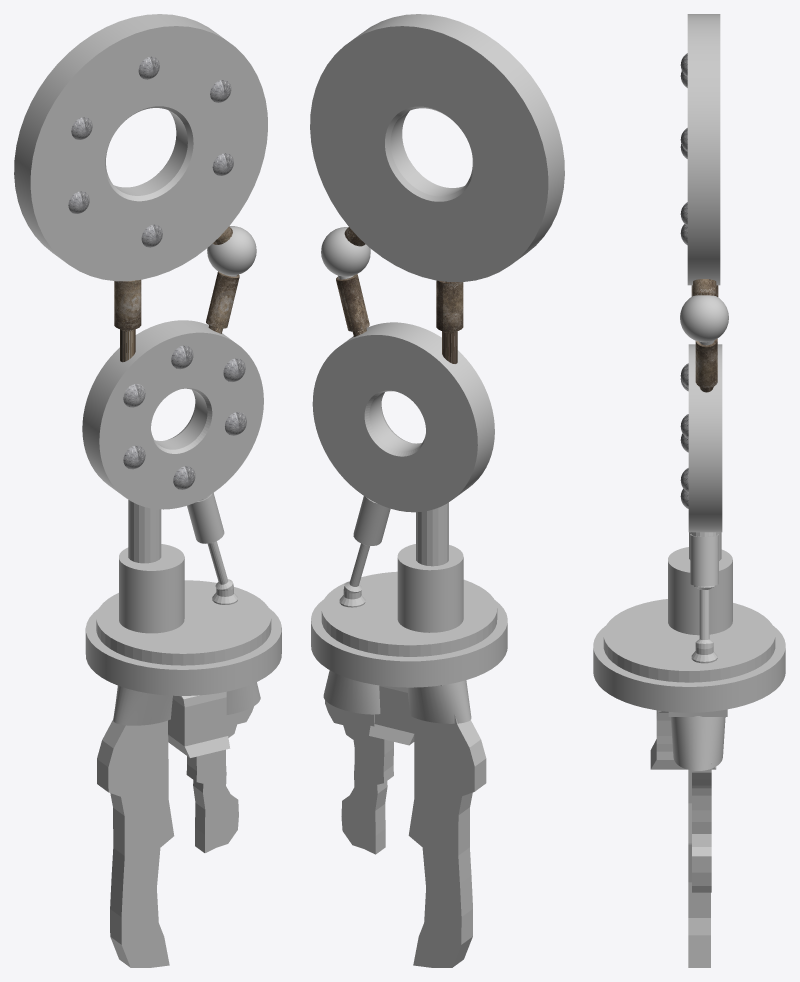
File: ArmPiece.FBX
3 renders of one model, left to right at view 1: azimuth 30°, elevation 25°; view 2: azimuth 150°, elevation 25°; view 3: azimuth 270°, elevation 25°, orthographic.
Parts seen in each view (by area): view 1: Steel_Arm_Piece1, Steel_Arm_Piece2, Flat_Joint, Claw1, BottomHalf_Joint2, Claw2, Claw_Splitter, BottomHalf_Joint3, BottomHalf_Joint1, ClawHolder_Left, Joint1, Sphere_Joint (+2 smaller); view 2: Steel_Arm_Piece1, Steel_Arm_Piece2, Flat_Joint, Claw1, Claw2, BottomHalf_Joint2, ClawHolder_Left, BottomHalf_Joint3, Claw_Splitter, Joint1, BottomHalf_Joint1, ClawHolder_Right (+2 smaller); view 3: Flat_Joint, Steel_Arm_Piece1, Steel_Arm_Piece2, BottomHalf_Joint2, ClawHolder_Right, BottomHalf_Joint3, Claw2, Claw1, Sphere_Joint, Claw_Splitter, Joint2.
Boxes of the visible parts, bbox=[...] form: Steel_Arm_Piece1: bbox=[14, 14, 267, 281]; Steel_Arm_Piece2: bbox=[82, 320, 263, 509]; Flat_Joint: bbox=[85, 580, 281, 695]; Claw1: bbox=[97, 719, 174, 967]; BottomHalf_Joint2: bbox=[119, 544, 184, 633]; Claw2: bbox=[186, 706, 253, 852]; Claw_Splitter: bbox=[168, 691, 230, 757]; BottomHalf_Joint3: bbox=[187, 493, 237, 604]; BottomHalf_Joint1: bbox=[128, 500, 161, 563]; ClawHolder_Left: bbox=[113, 685, 172, 725]; Joint1: bbox=[114, 279, 141, 362]; Sphere_Joint: bbox=[207, 226, 256, 275]; Steel_Arm_Piece1: bbox=[310, 14, 564, 281]; Steel_Arm_Piece2: bbox=[312, 322, 494, 512]; Flat_Joint: bbox=[311, 571, 507, 687]; Claw1: bbox=[408, 715, 486, 967]; Claw2: bbox=[325, 693, 393, 854]; BottomHalf_Joint2: bbox=[397, 544, 463, 632]; ClawHolder_Left: bbox=[407, 680, 471, 723]; BottomHalf_Joint3: bbox=[339, 496, 390, 607]; Claw_Splitter: bbox=[369, 685, 443, 745]; Joint1: bbox=[436, 280, 463, 363]; BottomHalf_Joint1: bbox=[416, 502, 448, 566]; ClawHolder_Right: bbox=[323, 670, 380, 714]; Flat_Joint: bbox=[593, 599, 785, 712]; Steel_Arm_Piece1: bbox=[687, 14, 720, 285]; Steel_Arm_Piece2: bbox=[688, 344, 722, 532]; BottomHalf_Joint2: bbox=[668, 547, 732, 635]; ClawHolder_Right: bbox=[670, 716, 725, 770]; BottomHalf_Joint3: bbox=[690, 532, 718, 663]; Claw2: bbox=[692, 763, 711, 892]; Claw1: bbox=[688, 770, 710, 967]; Sphere_Joint: bbox=[680, 295, 728, 342]; Claw_Splitter: bbox=[650, 709, 727, 769]; Joint2: bbox=[695, 338, 717, 392].
Size of the model in its own units: 40.6 by 28.59 by 153.
